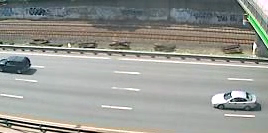car: (208, 88, 260, 114), (1, 53, 33, 77)
